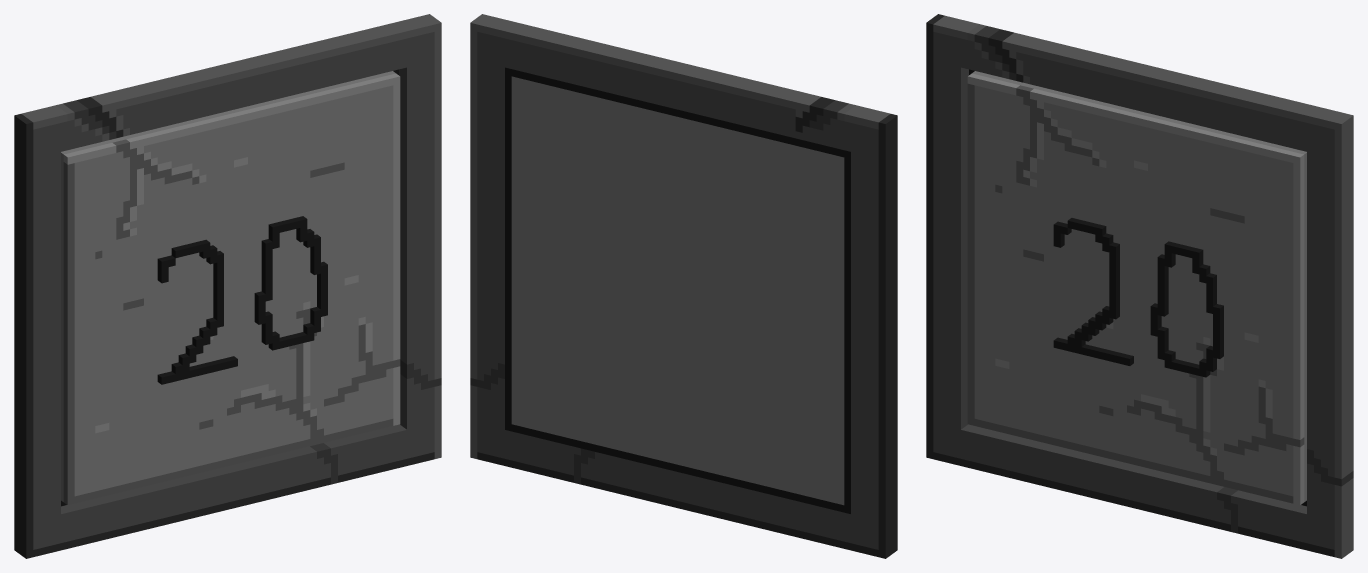
Rendered from balpan_20.obj.
3 renders of one model, left to right at view 1: azimuth 30°, elevation 25°; view 2: azimuth 150°, elevation 25°; view 3: azimuth 330°, elevation 25°, orthographic.
Parts seen in each view (by area): view 1: balpan_20; view 2: balpan_20; view 3: balpan_20.
Boxes of the visible parts, <box> form: balpan_20: <box>14,14,441,558</box>; balpan_20: <box>470,14,897,558</box>; balpan_20: <box>926,14,1353,558</box>.
Size of the model in its own units: 60 by 60 by 4.
1 material, 1 textured.
